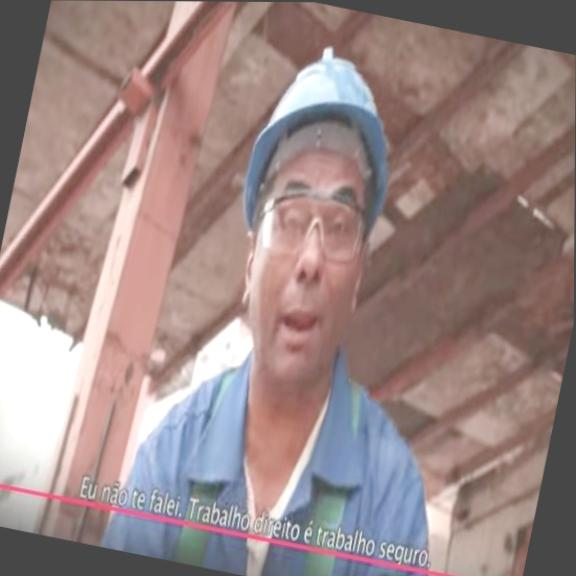no_safety_vest: (94, 298, 490, 576)
